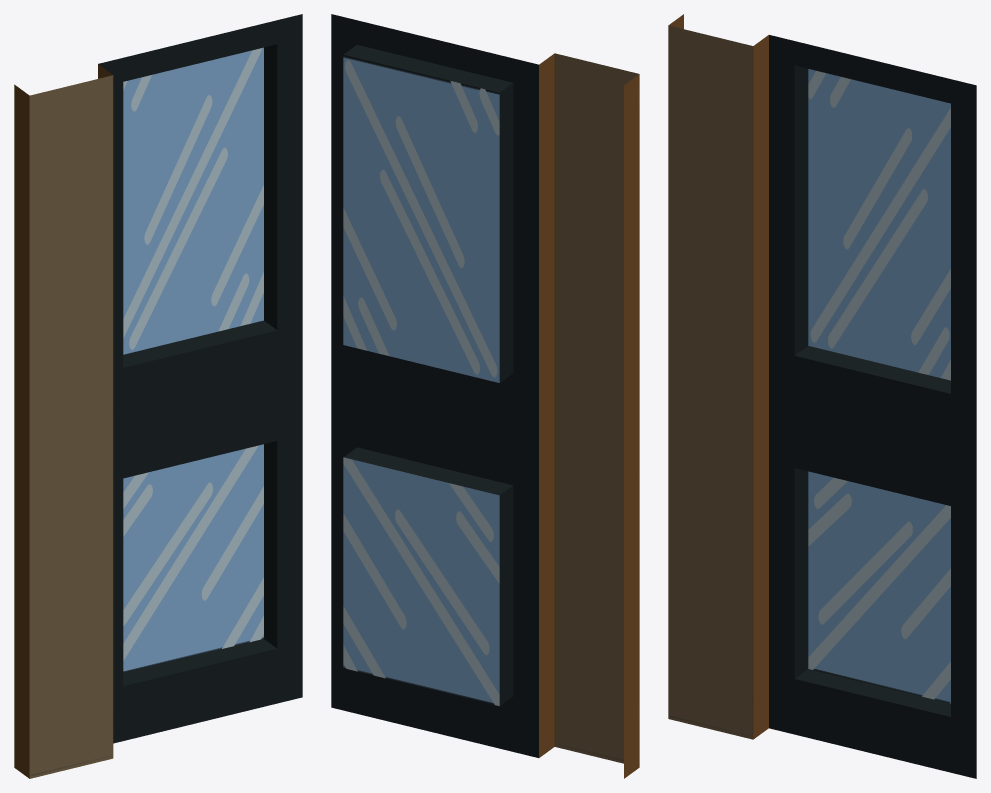
Rendered from Wall_Segment.glb.
The picture shows the model from 3 angles, left to right: view 1: azimuth 30°, elevation 25°; view 2: azimuth 150°, elevation 25°; view 3: azimuth 330°, elevation 25°; orthographic projection.
Visible parts, largest first — view 1: Wall_Segment; view 2: Wall_Segment; view 3: Wall_Segment.
Boxes of the visible parts, x1=… form: Wall_Segment: x1=14, y1=14, x2=302, y2=778; Wall_Segment: x1=331, y1=14, x2=639, y2=778; Wall_Segment: x1=668, y1=14, x2=976, y2=778.
Bounding box in the file's own units: 3.45 × 7.8 × 0.5966.
1 material, 1 textured.
